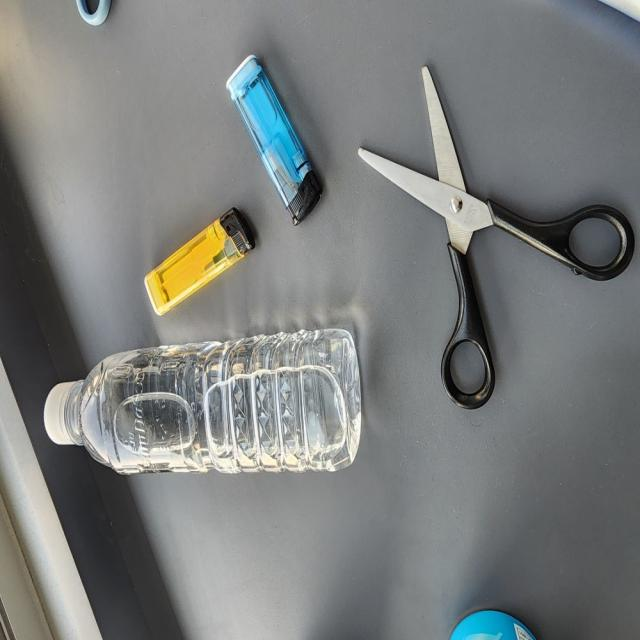lighter: (227, 52, 329, 226), (142, 204, 253, 314)
scissors: (352, 59, 637, 407)
water: (40, 317, 361, 474)
